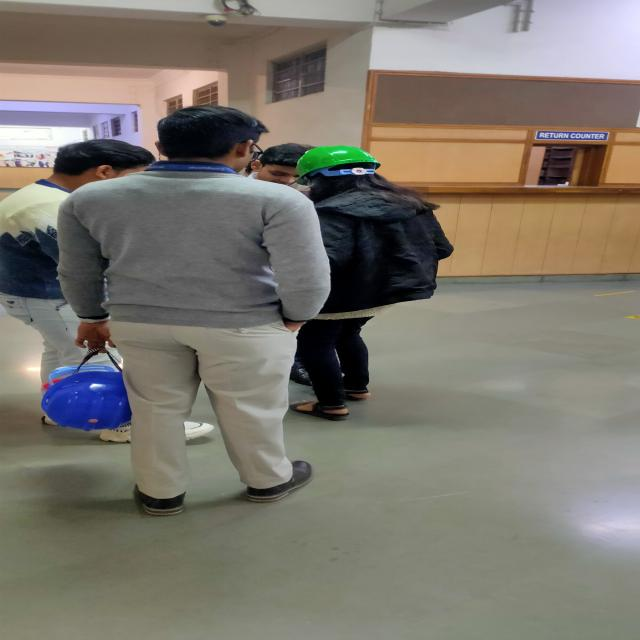no jacket: (295, 145, 453, 421)
unsafe: (73, 105, 332, 516), (2, 139, 148, 301)
